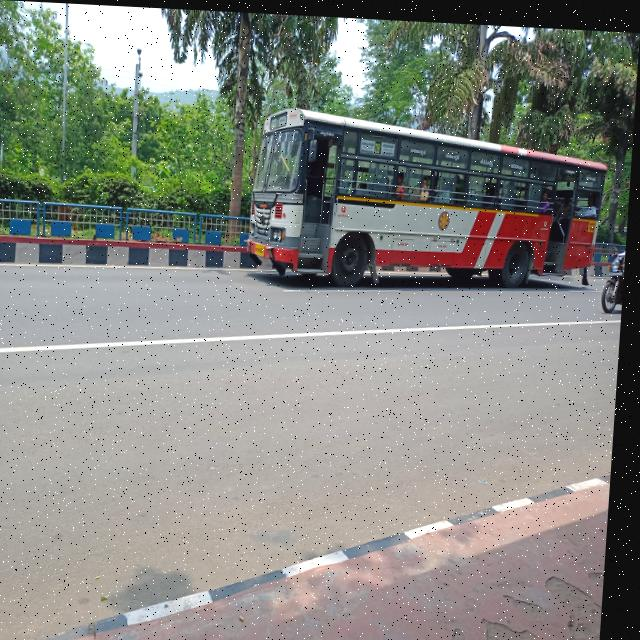bike: (602, 243, 629, 315)
bus: (243, 100, 612, 302)
